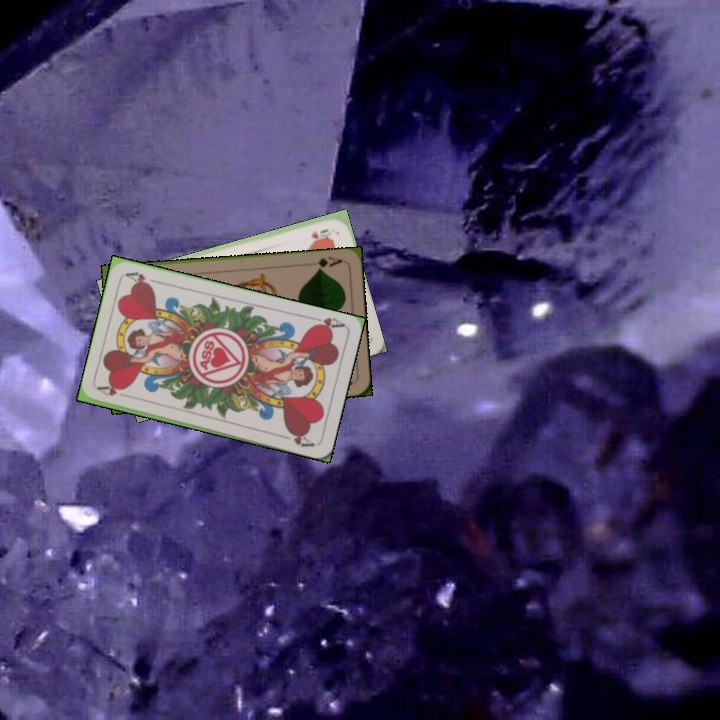GA: (313, 252, 344, 273)
HA: (306, 312, 347, 334), (95, 382, 135, 401)
HO: (307, 225, 334, 241)
